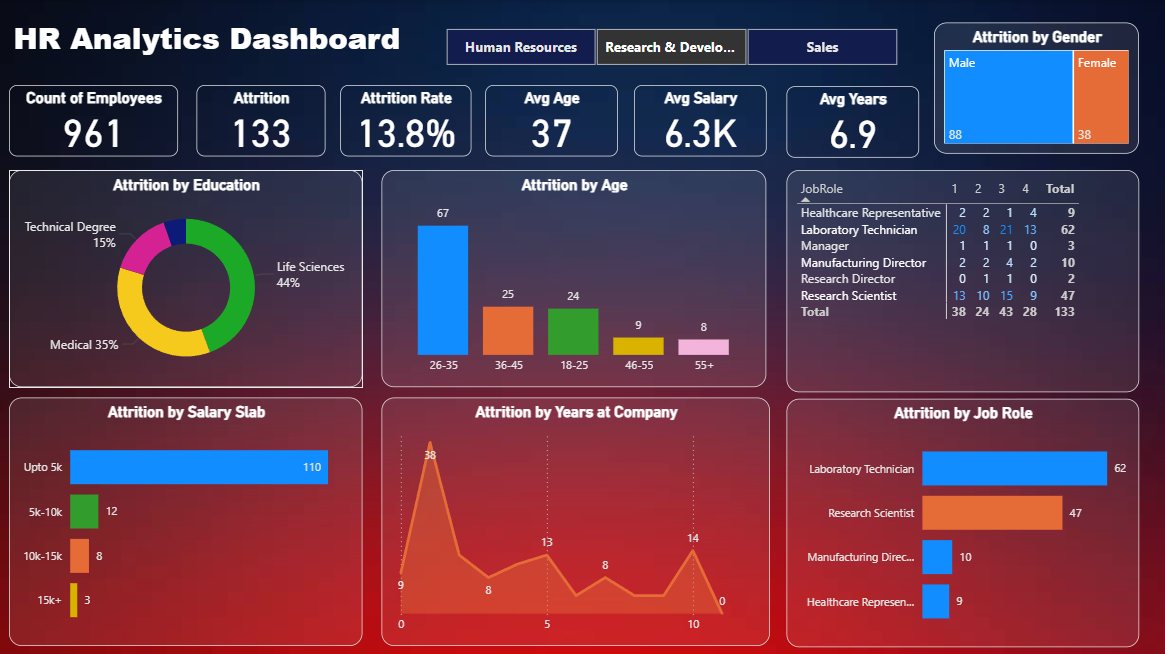

Layout of this report page (visuals, bound fields, positions):
{"tool":"powerbi","page":{"name":"Page 1","canvas":[1280,720],"ordinal":0},"visuals":[{"type":"card","title":"Count of Employees","fields":{"Values":["CountNonNull(HR_Analytics.EmpID)"]},"box":[11,93.3,185.2,78.2],"z":0},{"type":"card","title":"Avg Age","fields":{"Values":["Avg(HR_Analytics.Age)"]},"box":[533.8,93.3,145.5,78.2],"z":1000},{"type":"card","title":"Attrition Rate","fields":{"Values":["HR_Analytics.AttritionRate"]},"box":[374.6,93.3,144.1,78.2],"z":2000},{"type":"card","title":"Attrition","fields":{"Values":["Sum(HR_Analytics.AttritionCount)"]},"box":[216.8,93.3,141.3,78.2],"z":3000},{"type":"card","title":"Avg Years","fields":{"Values":["Avg(HR_Analytics.YearsAtCompany)"]},"box":[864.5,94.7,145.5,78.2],"z":4000},{"type":"card","title":"Avg Salary","fields":{"Values":["Avg(HR_Analytics.MonthlyIncome)"]},"box":[697.1,93.3,145.5,78.2],"z":5000},{"type":"donutChart","title":"Attrition by Education","fields":{"Category":["HR_Analytics.EducationField"],"Y":["Sum(HR_Analytics.AttritionCount)"]},"box":[11,186.6,388.3,238.8],"z":6000},{"type":"columnChart","title":"Attrition by Age","fields":{"Category":["HR_Analytics.AgeGroup"],"Y":["Sum(HR_Analytics.AttritionCount)"]},"box":[419.9,186.6,422.6,238.8],"z":7000},{"type":"pivotTable","fields":{"Rows":["HR_Analytics.JobRole"],"Columns":["HR_Analytics.JobSatisfaction"],"Values":["Sum(HR_Analytics.AttritionCount)"]},"box":[864.5,186.6,387,244.3],"z":8000},{"type":"barChart","title":"Attrition by Salary Slab","fields":{"Category":["HR_Analytics.SalarySlab"],"Y":["Sum(HR_Analytics.AttritionCount)"]},"box":[11,436.4,388.3,273.1],"z":9000},{"type":"barChart","title":"Attrition by Job Role","fields":{"Category":["HR_Analytics.JobRole"],"Y":["Sum(HR_Analytics.AttritionCount)"]},"box":[864.5,437.7,387,273.1],"z":10000},{"type":"areaChart","title":"Attrition by Years at Company","fields":{"Category":["HR_Analytics.YearsAtCompany"],"Y":["Sum(HR_Analytics.AttritionCount)"]},"box":[419.9,436.4,426.8,273.1],"z":11000},{"type":"treemap","title":"Attrition by Gender","fields":{"Group":["HR_Analytics.Gender"],"Values":["Sum(HR_Analytics.AttritionCount)"]},"box":[1026.4,24.7,225,144.1],"z":12000},{"type":"slicer","fields":{"Values":["HR_Analytics.Department"]},"box":[465.2,24.7,544.8,53.5],"z":13000},{"type":"textbox","box":[11,13.7,463.8,64.5],"z":14000}]}

Visuals, with their boxes in screenshot pixels (x1, y1, x2, y2), scaled from the page's 1280x720 canvas onto the 1165x654 screenshot:
"Count of Employees" card: x1=10 y1=85 x2=179 y2=156
"Avg Age" card: x1=486 y1=85 x2=618 y2=156
"Attrition Rate" card: x1=341 y1=85 x2=472 y2=156
"Attrition" card: x1=197 y1=85 x2=326 y2=156
"Avg Years" card: x1=787 y1=86 x2=919 y2=157
"Avg Salary" card: x1=634 y1=85 x2=767 y2=156
"Attrition by Education" donutChart: x1=10 y1=169 x2=363 y2=386
"Attrition by Age" columnChart: x1=382 y1=169 x2=767 y2=386
pivotTable - HR_Analytics.JobRole x HR_Analytics.JobSatisfaction: x1=787 y1=169 x2=1139 y2=391
"Attrition by Salary Slab" barChart: x1=10 y1=396 x2=363 y2=644
"Attrition by Job Role" barChart: x1=787 y1=398 x2=1139 y2=646
"Attrition by Years at Company" areaChart: x1=382 y1=396 x2=771 y2=644
"Attrition by Gender" treemap: x1=934 y1=22 x2=1139 y2=153
slicer - HR_Analytics.Department: x1=423 y1=22 x2=919 y2=71
textbox: x1=10 y1=12 x2=432 y2=71
